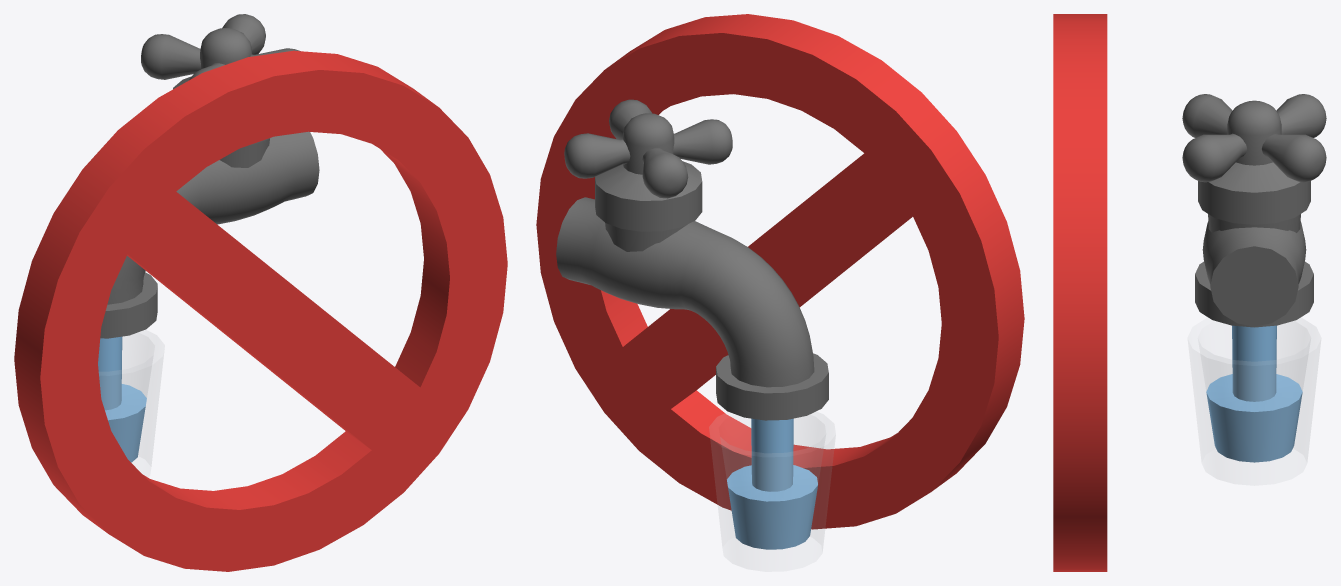
The model's file is non_potable_water.gltf.
3 renders of one model, left to right at view 1: azimuth 30°, elevation 25°; view 2: azimuth 150°, elevation 25°; view 3: azimuth 270°, elevation 25°, orthographic. The views are drawn at different scales.
Visible parts, largest first — view 1: Circle.2623, Torus.012; view 2: Circle.2623, Torus.012; view 3: Torus.012, Circle.2623.
Boxes of the visible parts, bbox=[...] form: Circle.2623: bbox=[14, 50, 507, 571]; Torus.012: bbox=[98, 14, 319, 476]; Circle.2623: bbox=[536, 14, 1024, 529]; Torus.012: bbox=[556, 99, 835, 571]; Torus.012: bbox=[1182, 94, 1326, 485]; Circle.2623: bbox=[1053, 14, 1107, 571].
Bounding box in the file's own units: 1.92 × 1.92 × 0.9409.
2 materials, 1 textured.
